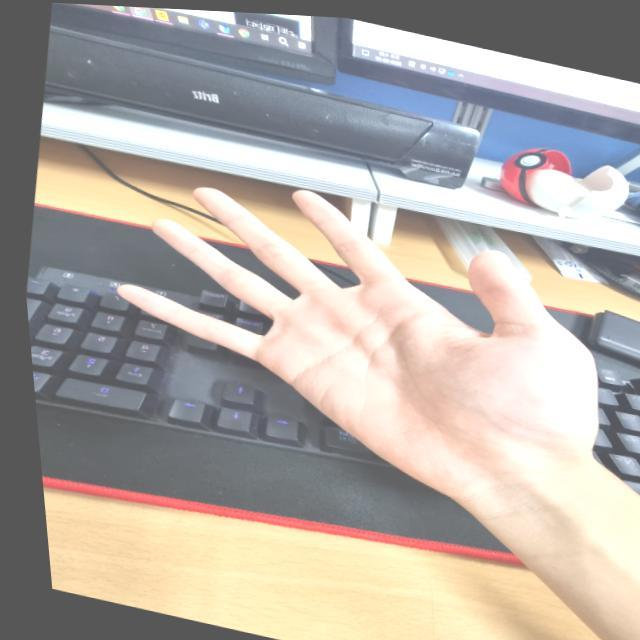keyboard-with-hands: (26, 267, 640, 520)
